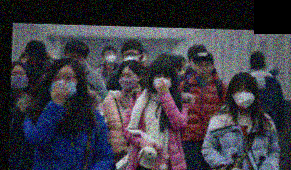with_mask: (46, 69, 78, 100), (230, 84, 256, 110), (149, 72, 174, 93), (10, 69, 29, 90), (118, 71, 139, 90), (24, 55, 42, 75), (120, 49, 141, 63), (103, 51, 117, 65)
without_mask: (193, 59, 213, 78), (65, 51, 86, 68)
